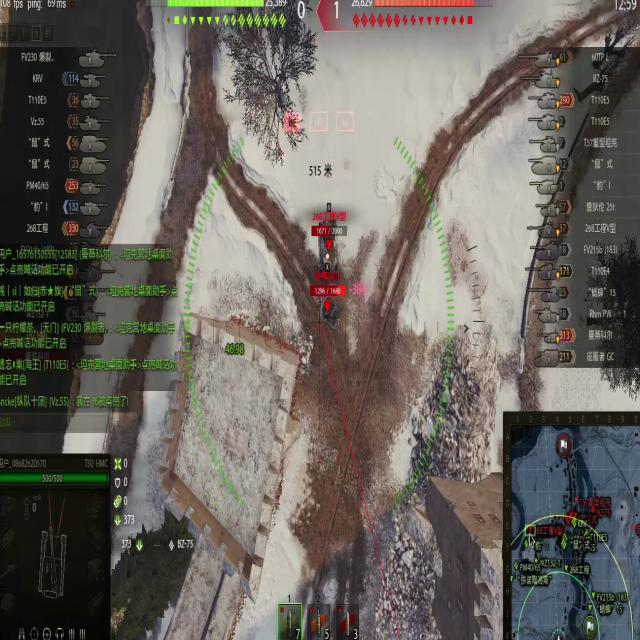tank: (304, 282, 350, 334), (312, 214, 344, 271)
